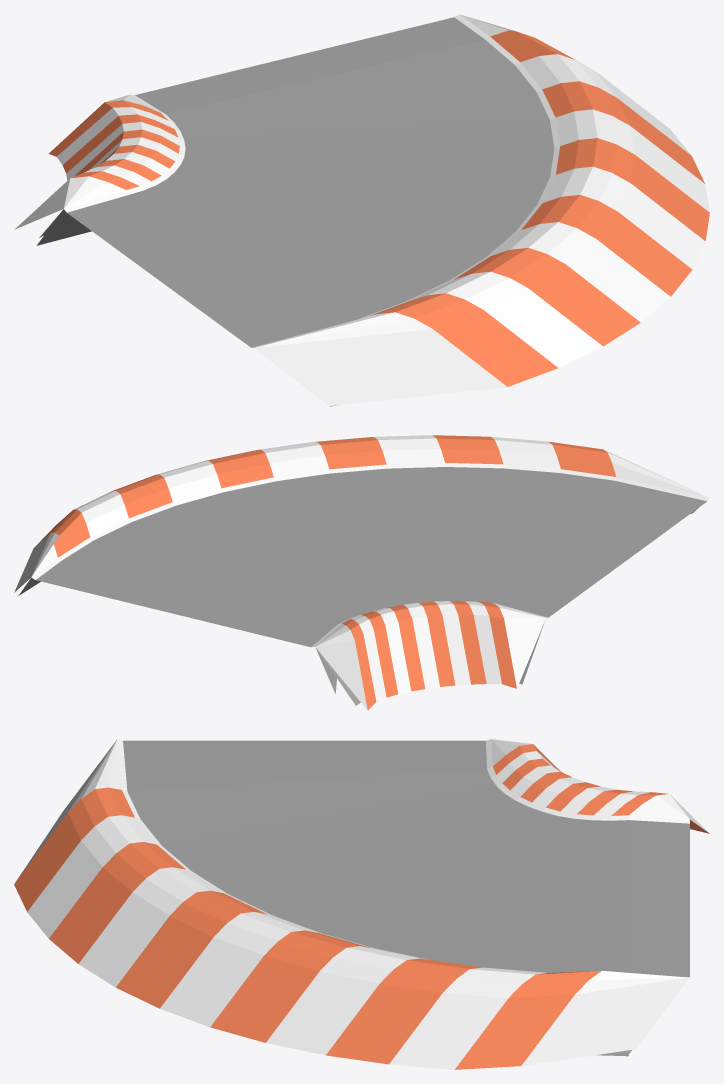
Rendered from CornerTrack.fbx.
3 renders of one model, top to bottom at view 1: azimuth 30°, elevation 25°; view 2: azimuth 150°, elevation 25°; view 3: azimuth 270°, elevation 25°, orthographic. The views are drawn at different scales.
Parts seen in each view (by area): view 1: Plane; view 2: Plane; view 3: Plane.
Part boxes in pixels (x1,y1,x2,y2): Plane: (14, 14, 709, 406); Plane: (14, 435, 709, 710); Plane: (14, 739, 709, 1069).
Size of the model in its own units: 1290 by 1254 by 141.
